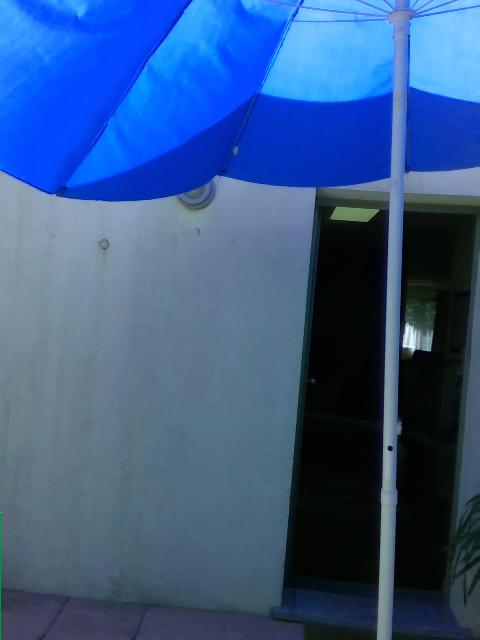open_door: (280, 180, 479, 637)
